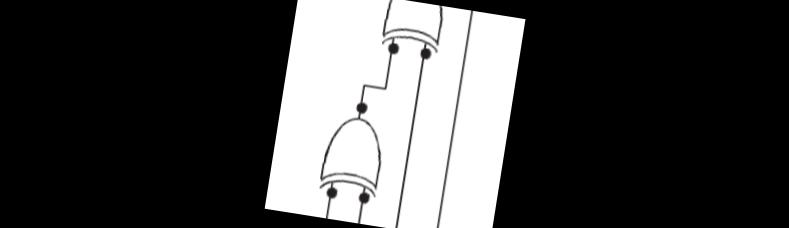xor: (310, 109, 396, 195), (377, 0, 449, 49)
